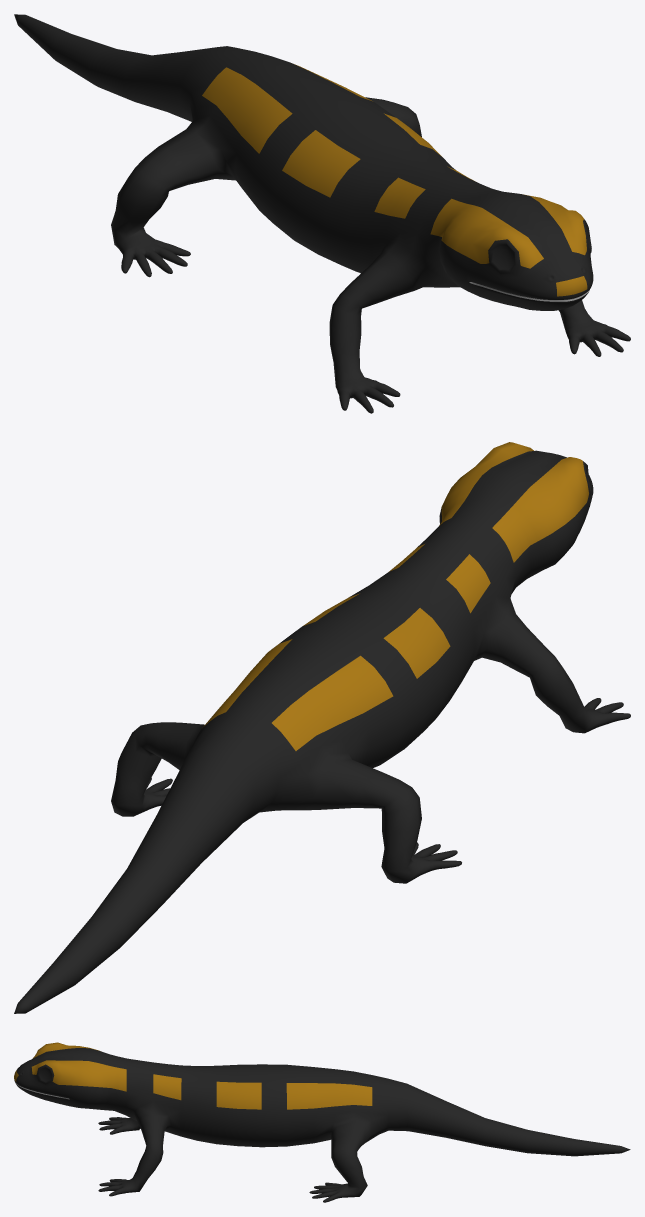
File: salamander_salamander.obj
3 renders of one model, top to bottom at view 1: azimuth 30°, elevation 25°; view 2: azimuth 150°, elevation 25°; view 3: azimuth 270°, elevation 25°, orthographic. The views are drawn at different scales.
Parts seen in each view (by area): view 1: salamander; view 2: salamander; view 3: salamander.
Boxes of the visible parts, <box> form: salamander: <box>14,14,630,413</box>; salamander: <box>14,442,630,1013</box>; salamander: <box>14,1042,630,1202</box>.
Size of the model in its own units: 0.0893 by 0.0489 by 0.2558.
